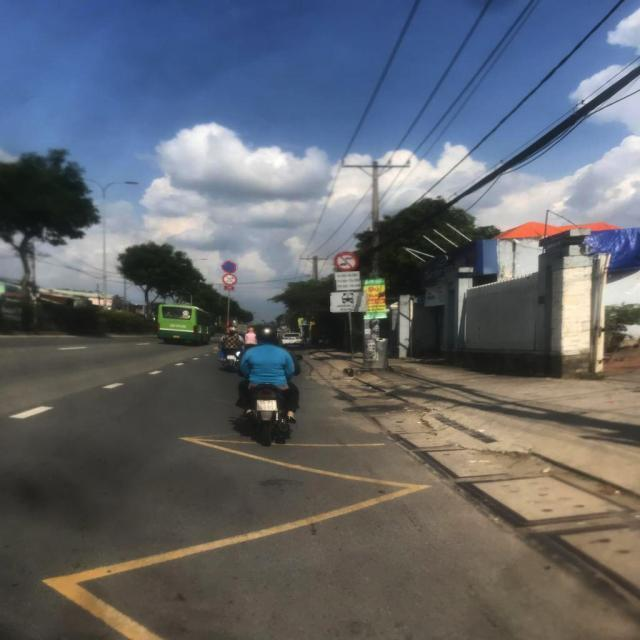107-cam-oto-khach-va-oto-tai: (333, 252, 360, 271)
